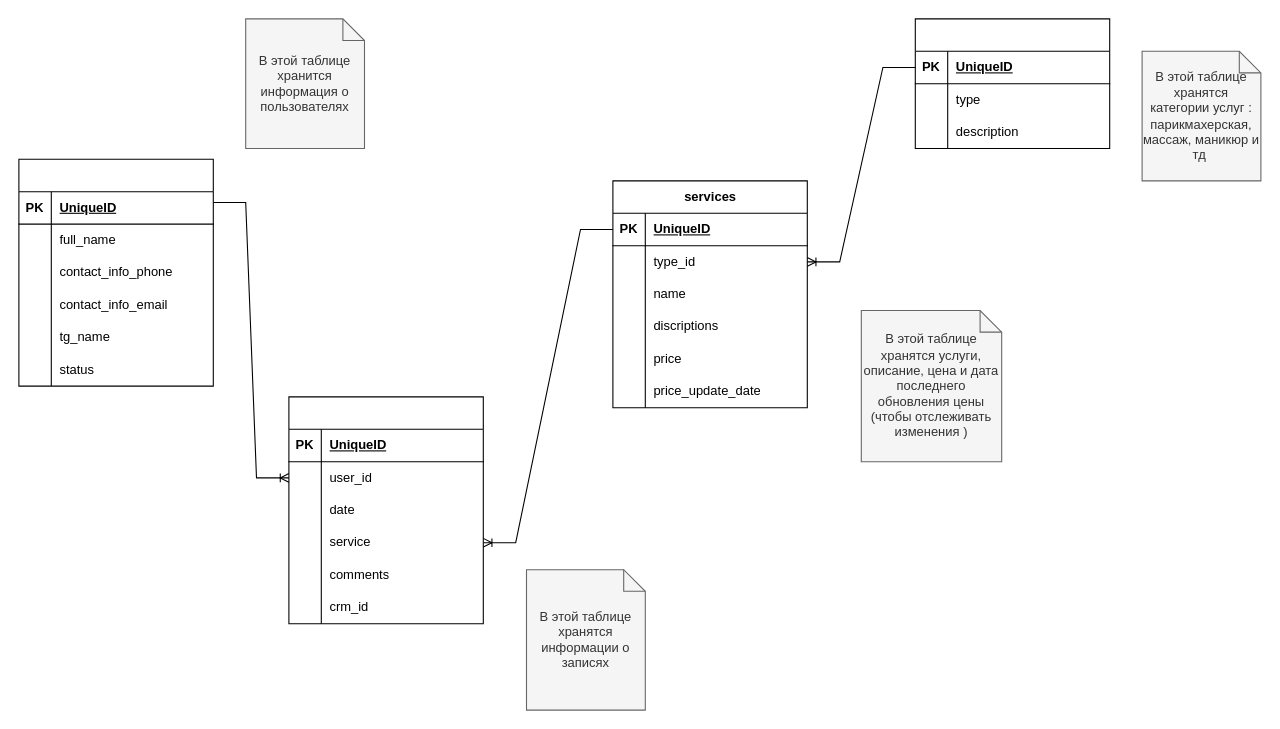
Some shapes in this 1280 by 729 pixel diagram are drawn without their labels. The box of each missing label's shape, as (x1, y1, x2, y2) in pixels:
appointment: (288, 396, 483, 624)
type_of_services: (914, 18, 1110, 148)
users: (18, 158, 213, 386)
